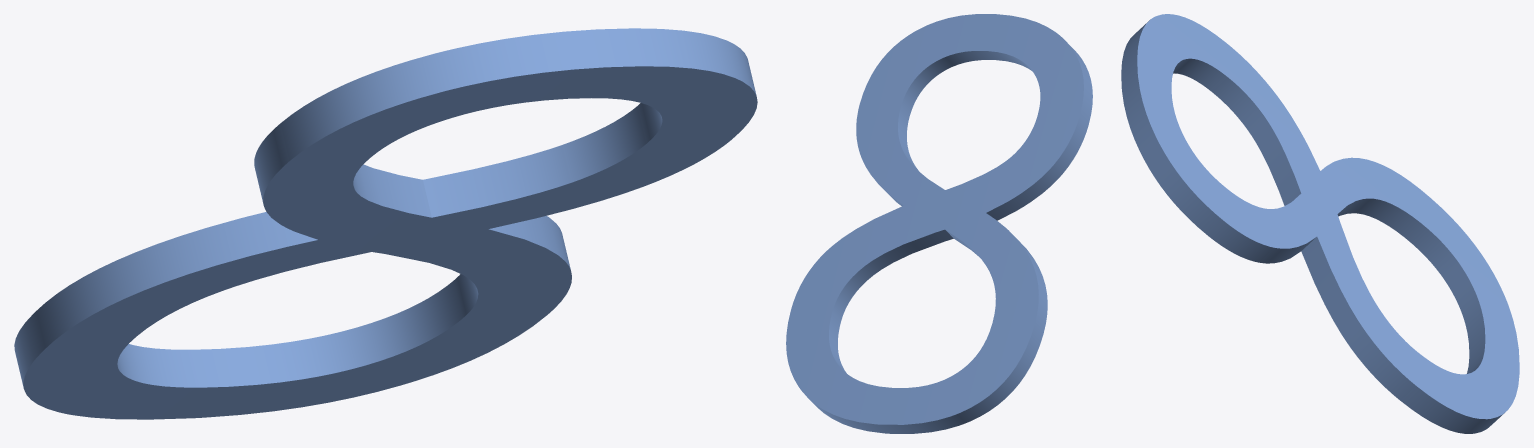
The model's file is New_Number_8.gltf.
3 views of the same model, side by side, from view 1: azimuth 30°, elevation 25°; view 2: azimuth 150°, elevation 25°; view 3: azimuth 270°, elevation 25° (orthographic). The views are drawn at different scales.
Parts seen in each view (by area): view 1: Part 251; view 2: Part 251; view 3: Part 251.
Part boxes in pixels (x1,y1,x2,y2): Part 251: (14,28,757,419); Part 251: (786,14,1092,433); Part 251: (1121,14,1519,433).
Bounding box in the file's own units: 0.00379 × 0.00422 × 0.00421.
